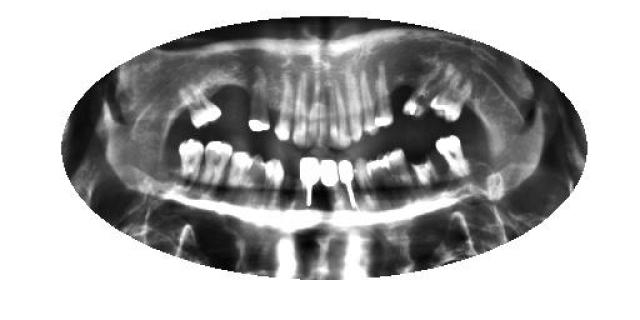Cavity: (410, 150, 440, 192)
Fillings: (198, 140, 232, 190), (246, 70, 270, 135), (374, 60, 395, 129), (321, 160, 340, 199)
Implant: (298, 155, 322, 206), (336, 160, 356, 210)
